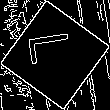L_E: (27, 35, 83, 75)
